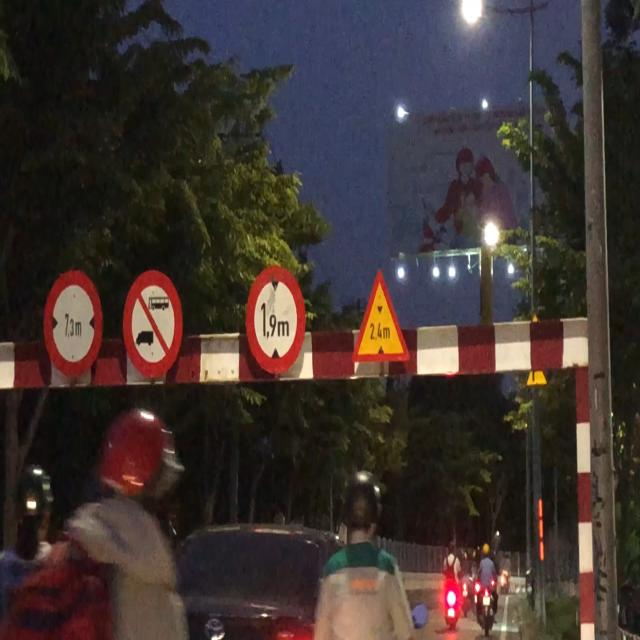Bien bao cam xe oto khach va xe oto tai: (120, 268, 190, 388)
Bien bao chieu cao tinh khong thuc te: (352, 260, 412, 373)
Bien bao han che chieu cao: (243, 259, 307, 383)
